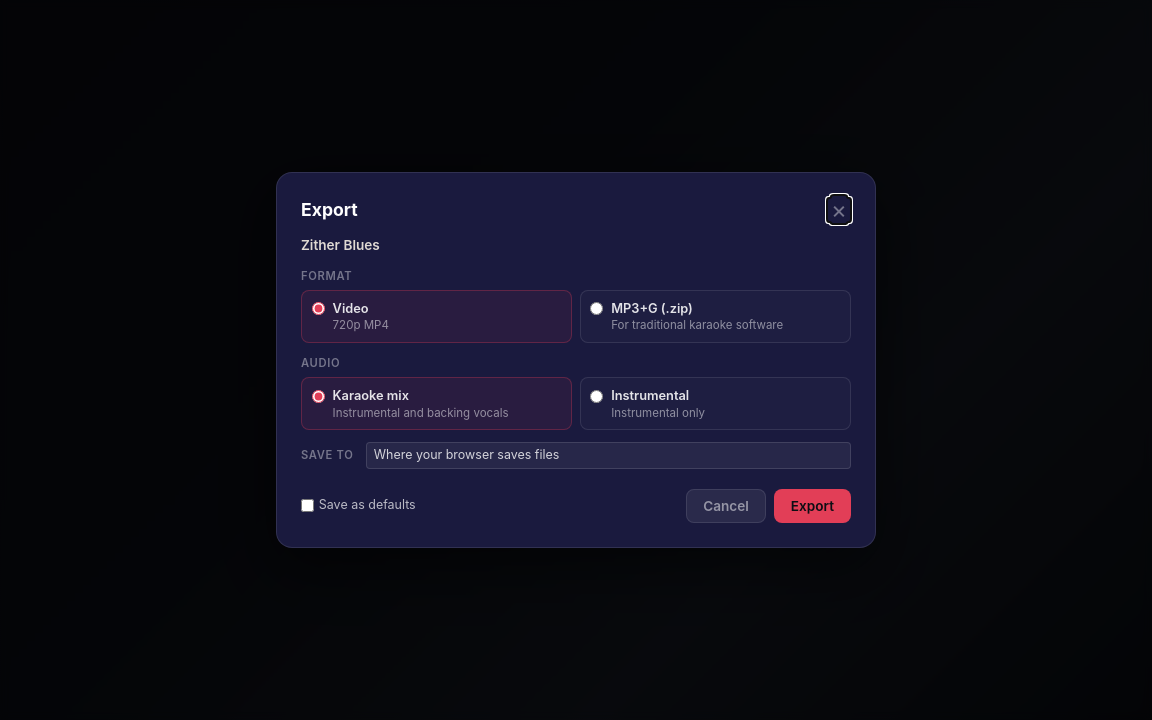
video format › removes the session when rendering fails
The image size is (1152, 720).
Click the button "Export": (812, 506) [774, 489, 851, 523]
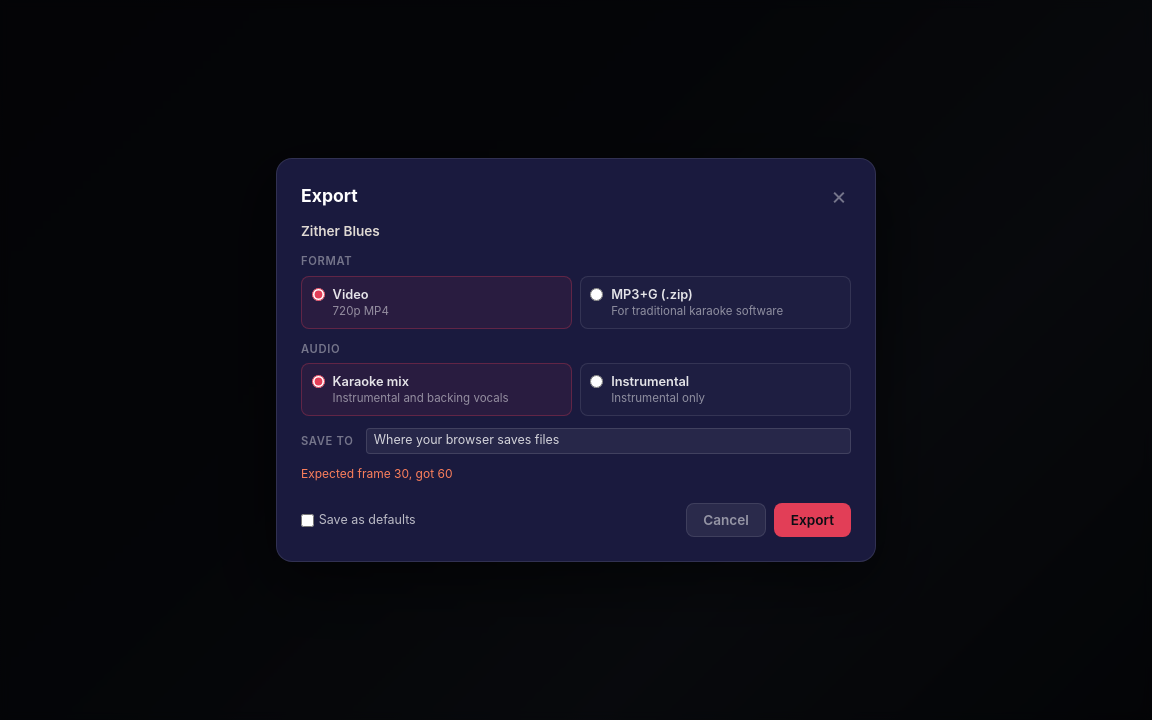
expect the text with class "export-error" reads "Expected frame 30, got 60": met, box [301, 466, 452, 481]
